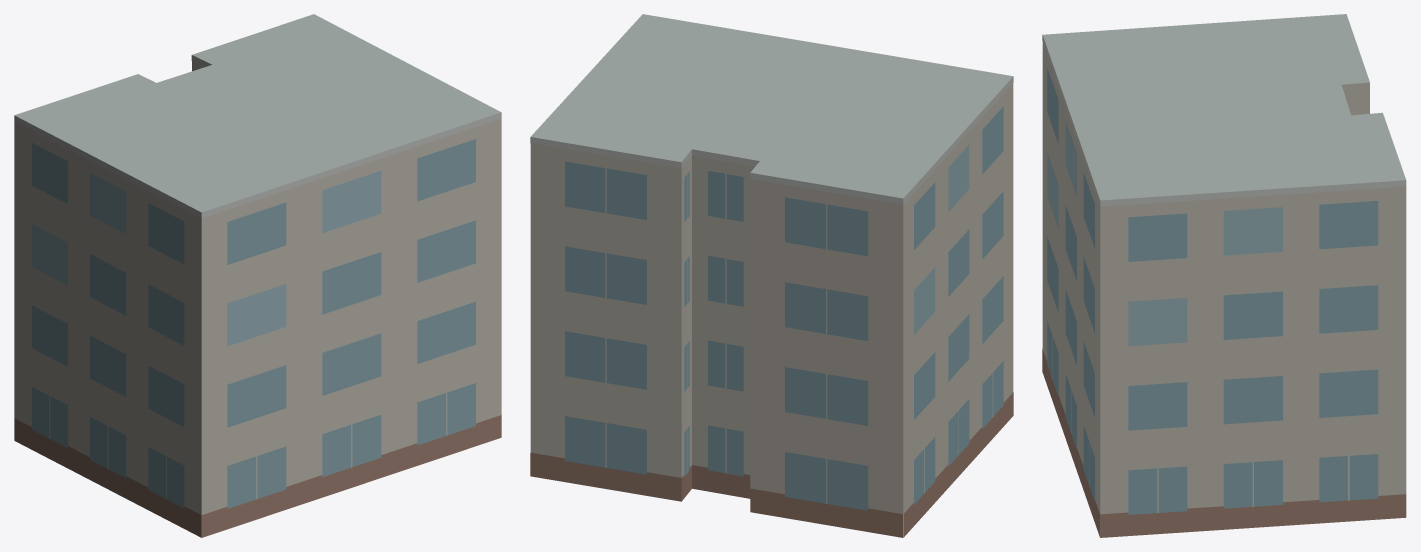
The model's file is survey-upis-32702636.glb.
The picture shows the model from 3 angles, left to right: view 1: azimuth 30°, elevation 25°; view 2: azimuth 150°, elevation 25°; view 3: azimuth 270°, elevation 25°; orthographic projection. The views are drawn at different scales.
Parts seen in each view (by area): view 1: survey-upis-32702636.tmp; view 2: survey-upis-32702636.tmp; view 3: survey-upis-32702636.tmp.
Boxes of the visible parts, x1=… form: survey-upis-32702636.tmp: x1=14, y1=14, x2=501, y2=537; survey-upis-32702636.tmp: x1=530, y1=14, x2=1013, y2=537; survey-upis-32702636.tmp: x1=1042, y1=14, x2=1406, y2=537.
Size of the model in its own units: 15.53 by 13.1 by 12.81.
